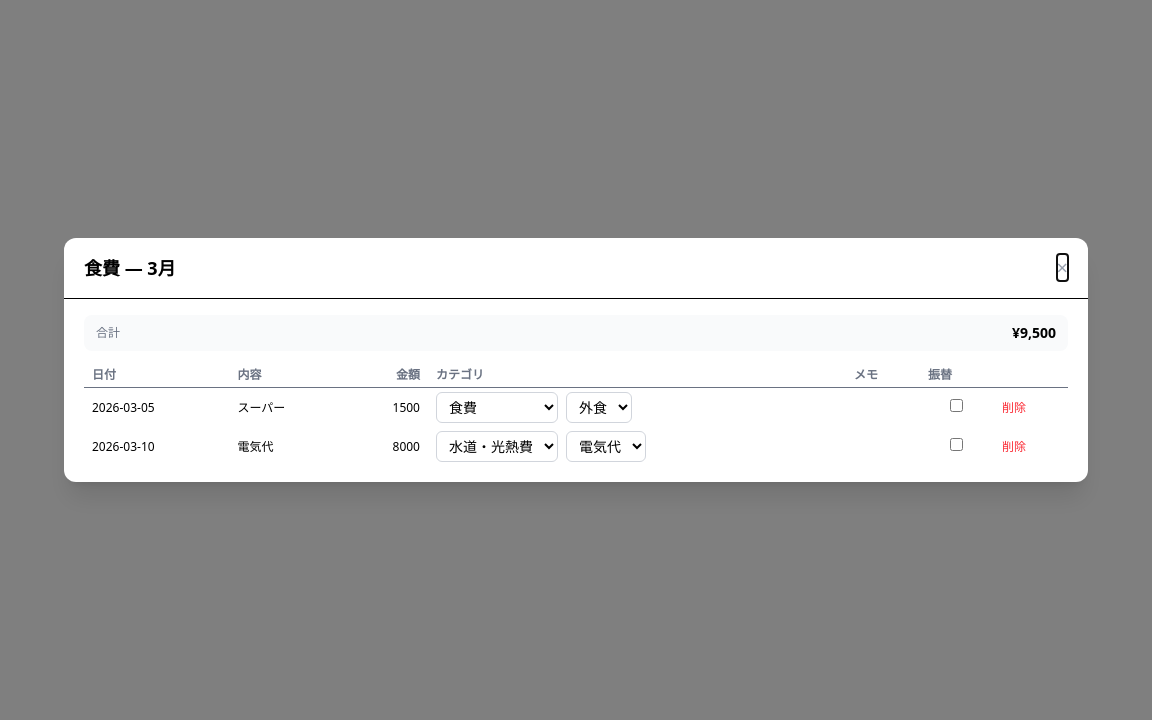
Scenario: BudgetItemMonthDetailModal › 取引を編集すると合計金額が再計算される
# amount セルをクリックして編集
Click the button "1500": (406, 408) [392,400,420,416]
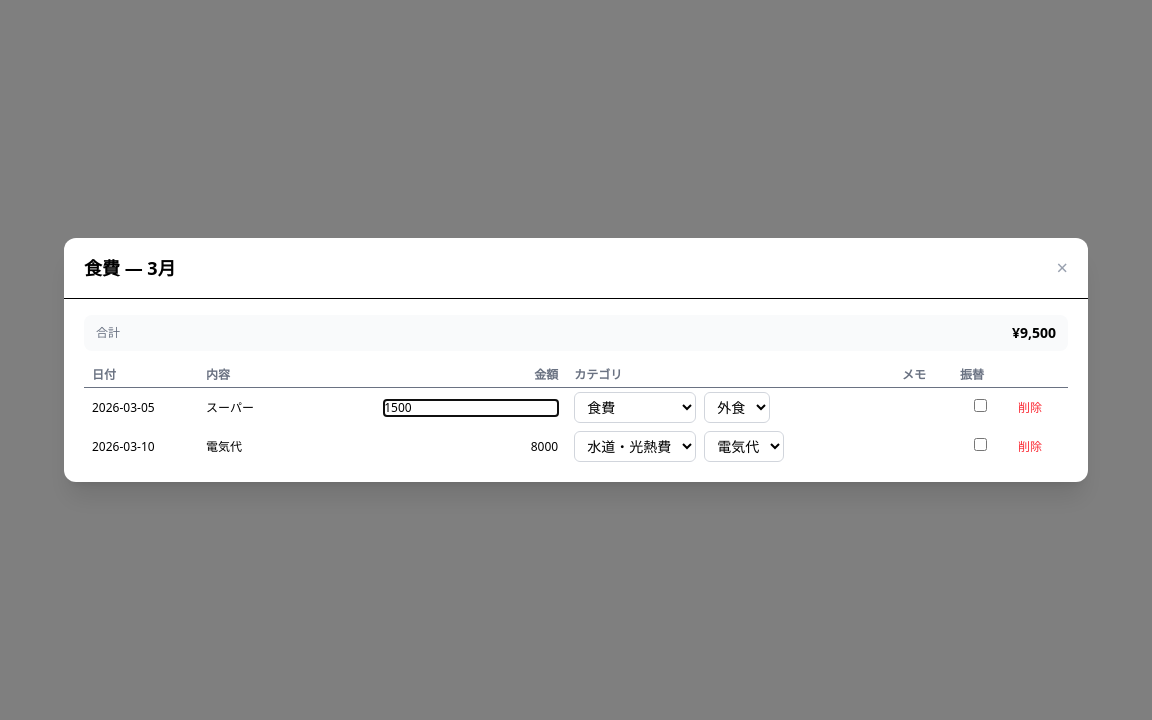
Replace the text in the field named "amount" with "3000": (471, 408) [384,400,558,416]
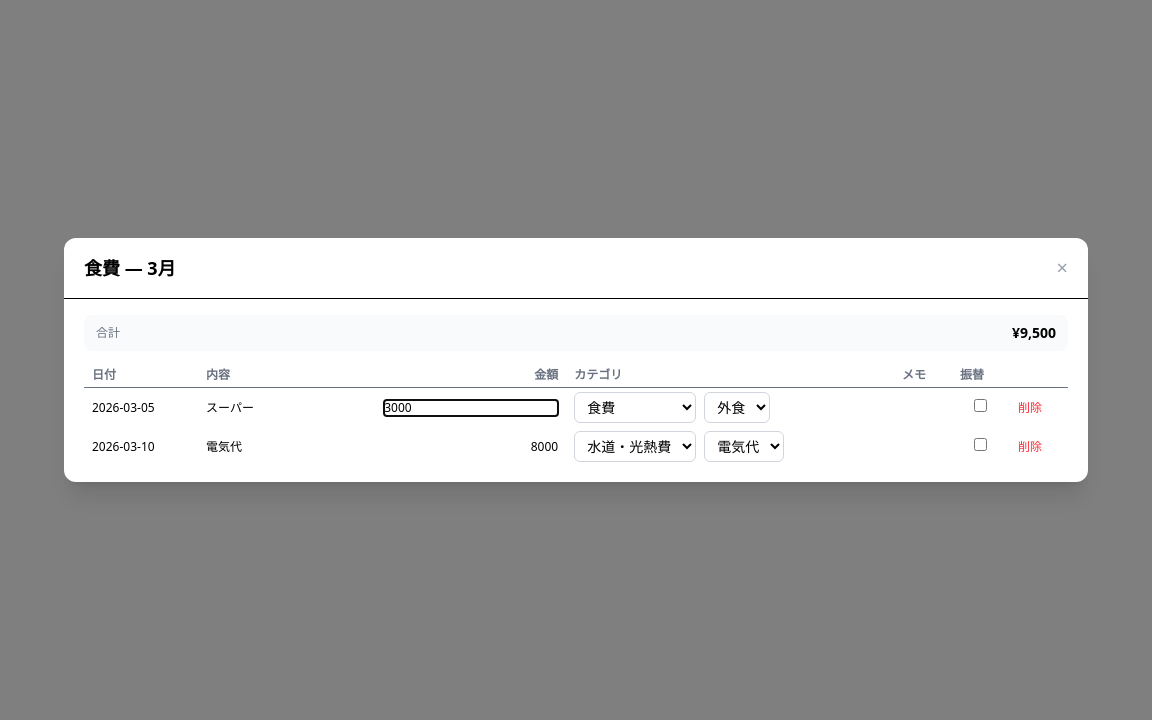
Press Tab
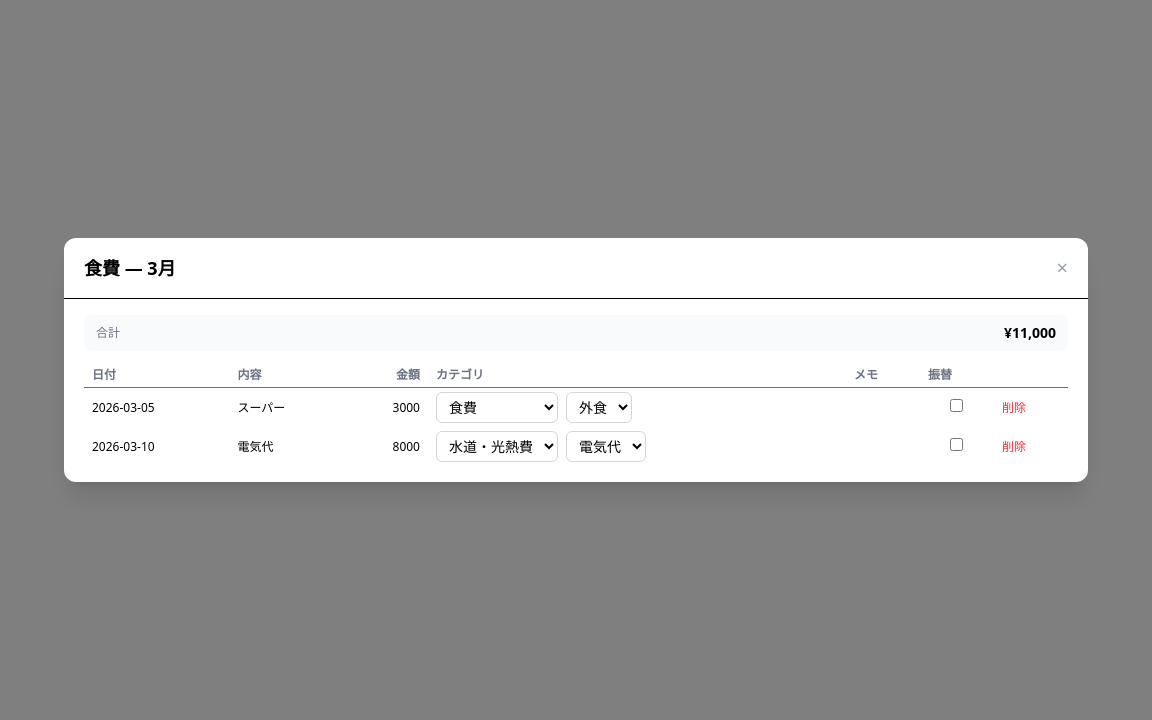
expect the text "¥11,000" is shown: met, box [1004,323,1056,343]
